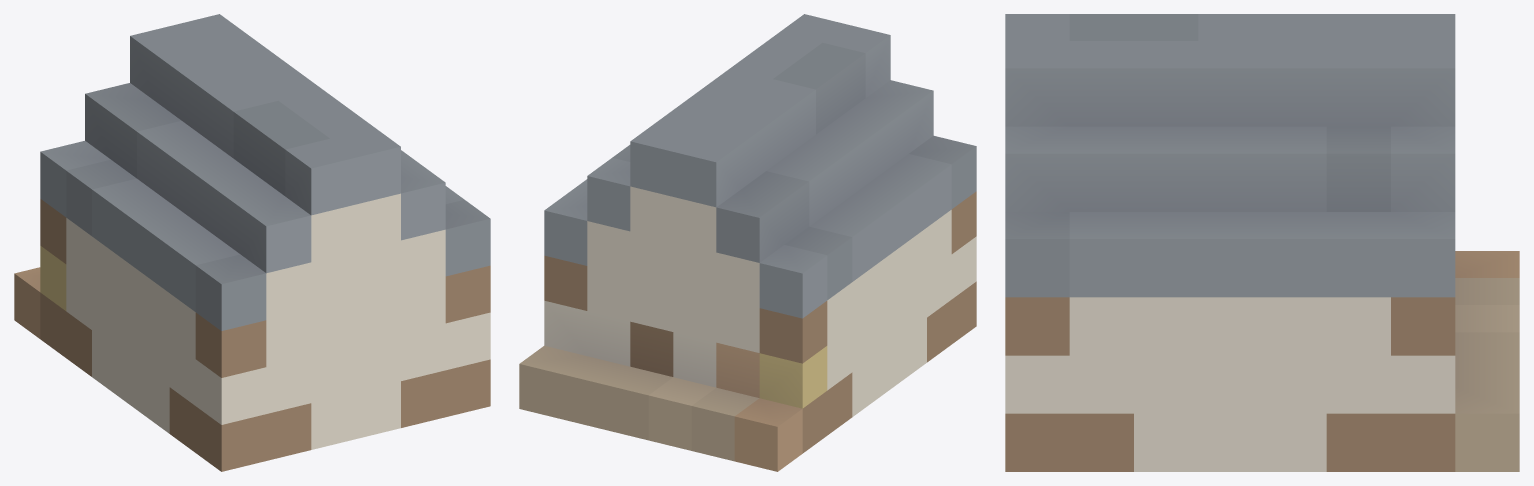
Rendered from leather_works.lite.glb.
3 views of the same model, side by side, from view 1: azimuth 30°, elevation 25°; view 2: azimuth 150°, elevation 25°; view 3: azimuth 270°, elevation 25° (orthographic). The views are drawn at different scales.
Parts seen in each view (by area): view 1: leather_works; view 2: leather_works; view 3: leather_works.
Part boxes in pixels (x1=…): leather_works: x1=14, y1=14, x2=490, y2=471; leather_works: x1=519, y1=14, x2=976, y2=471; leather_works: x1=1005, y1=14, x2=1519, y2=471.
Size of the model in its own units: 3 by 3 by 4.
